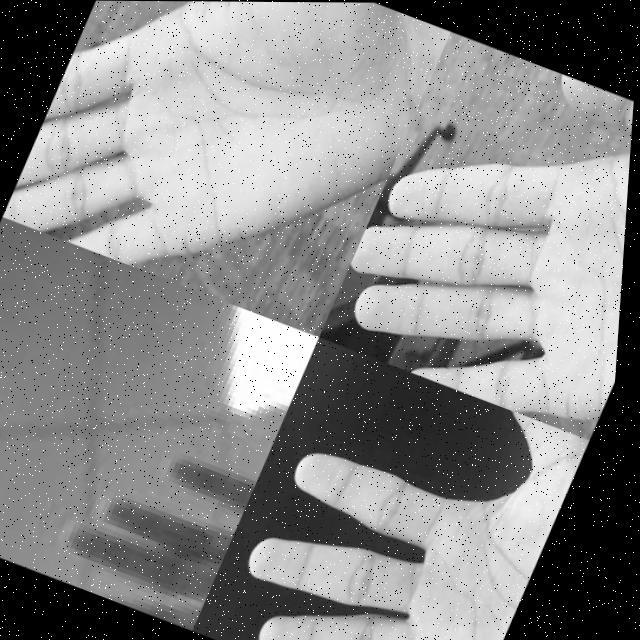no-gloves: (0, 0, 449, 336), (318, 30, 638, 439), (218, 341, 602, 640), (48, 414, 270, 630)
